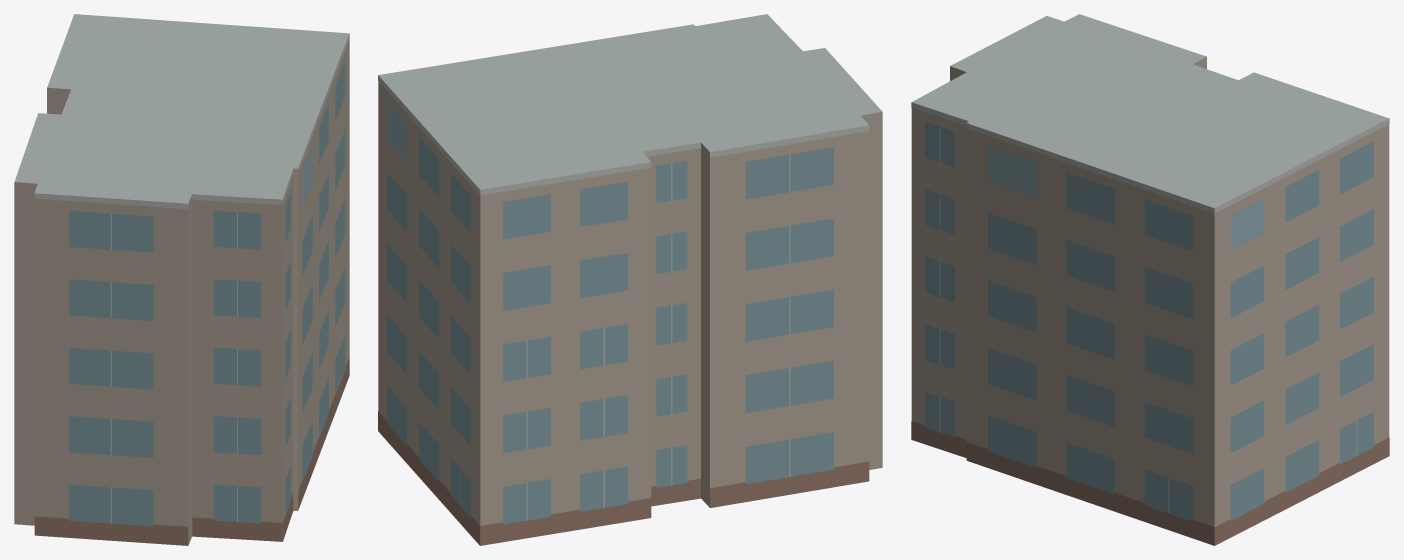
File: survey-upis-32669920.glb
The picture shows the model from 3 angles, left to right: view 1: azimuth 30°, elevation 25°; view 2: azimuth 150°, elevation 25°; view 3: azimuth 270°, elevation 25°; orthographic projection. The views are drawn at different scales.
Visible parts, largest first — view 1: survey-upis-32669920.tmp; view 2: survey-upis-32669920.tmp; view 3: survey-upis-32669920.tmp.
Part boxes in pixels (box(x1,y1,x2,y2)): survey-upis-32669920.tmp: box(14, 14, 349, 545); survey-upis-32669920.tmp: box(378, 14, 882, 545); survey-upis-32669920.tmp: box(911, 14, 1389, 545).
Size of the model in its own units: 18.95 by 15.35 by 19.71.
